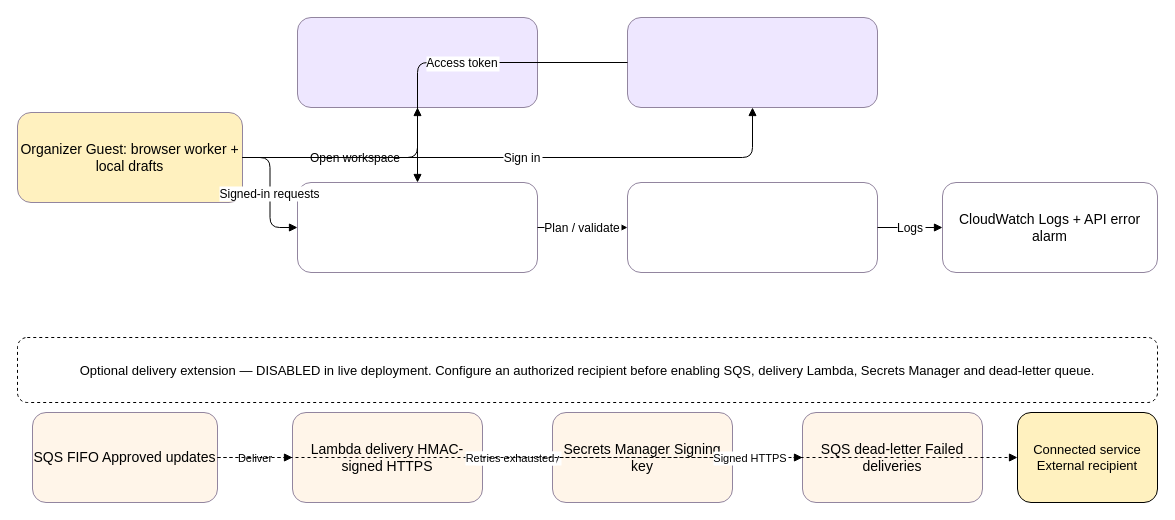
Some shapes in this 1175 by 520 pixel diagram are drawn without their labels. Each missing label, with the box of its shape:
Amazon Cognito Invited organizers · code + PKCE: (626, 16, 878, 108)
API Gateway JWT + scope verification: (296, 182, 538, 272)
AWS Amplify Static React experience: (296, 16, 538, 108)
AWS Lambda Repair + independent validation: (626, 182, 878, 272)
